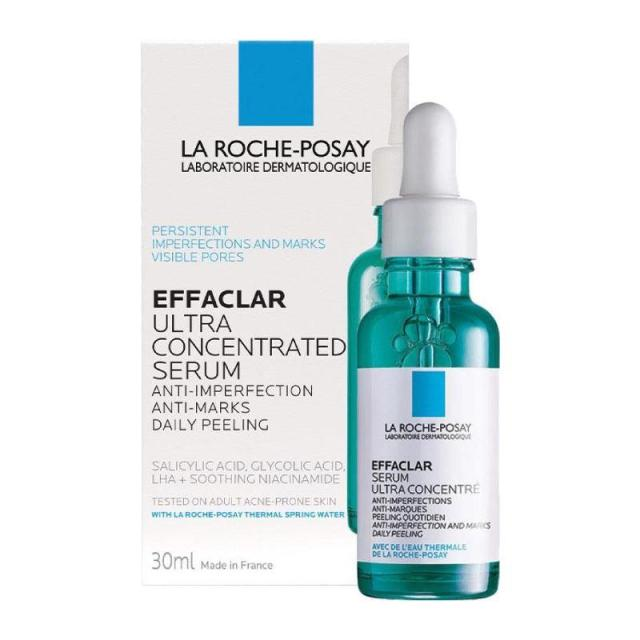medicine: (142, 46, 360, 566), (365, 266, 483, 595)
